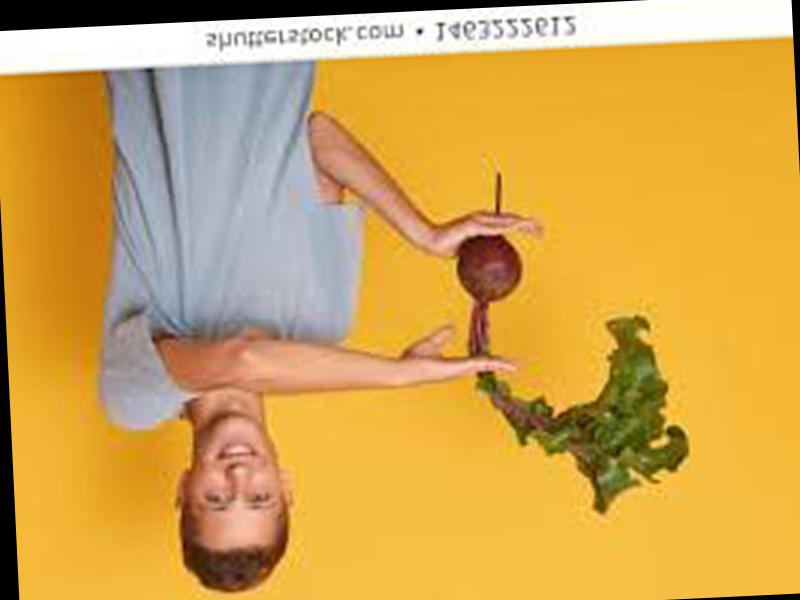Beet: (452, 165, 692, 520)
